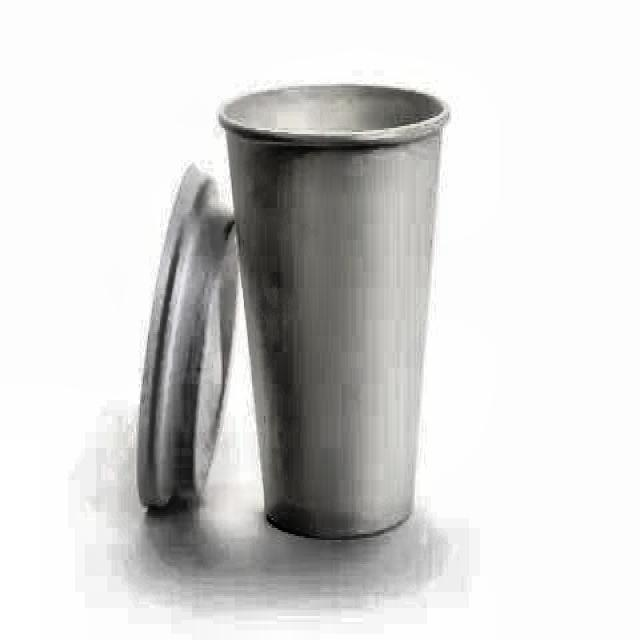Cup: (209, 74, 466, 572)
